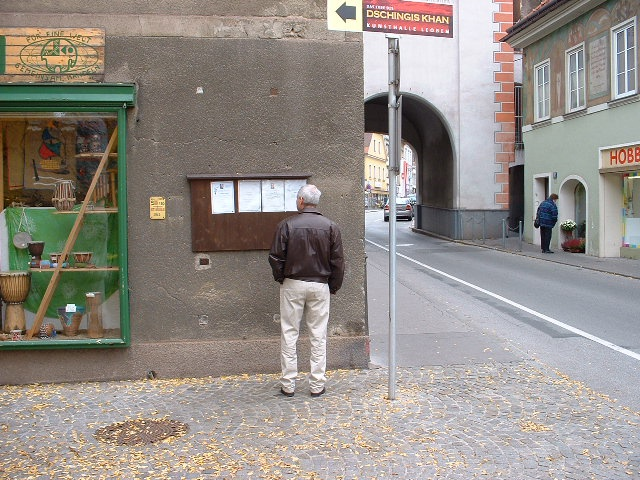person: (269, 184, 346, 399)
